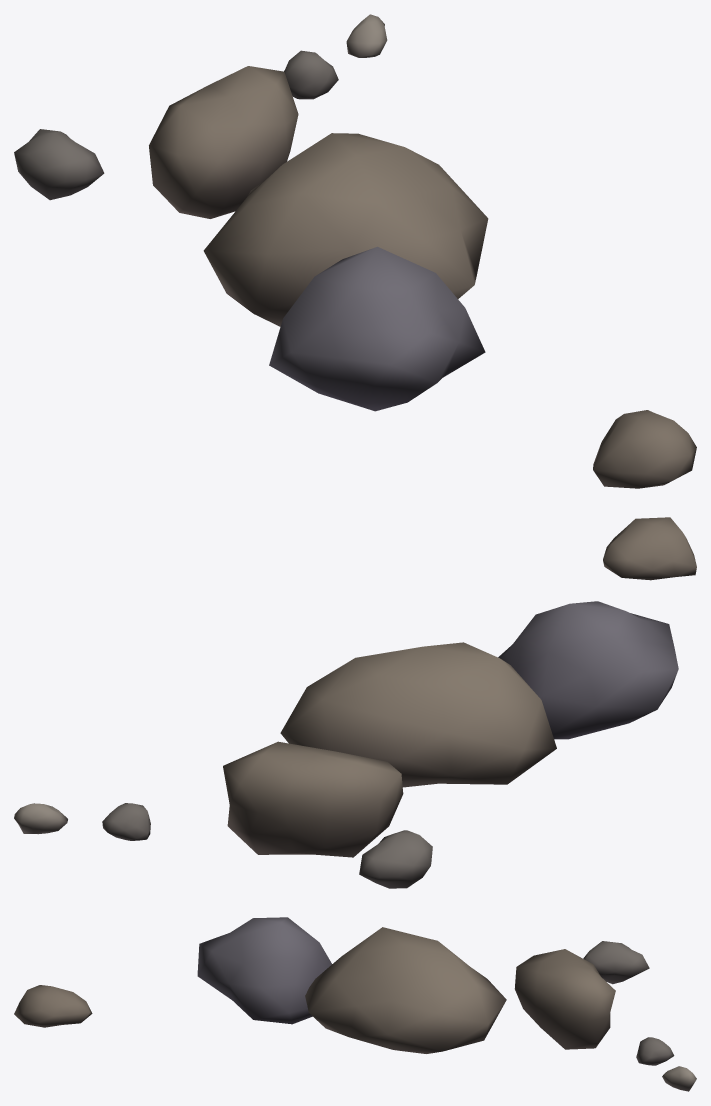
File: yd_stones__216.glb
3 views of the same model, one above another, from view 1: azimuth 30°, elevation 25°; view 2: azimuth 150°, elevation 25°; view 3: azimuth 270°, elevation 25° (orthographic). The views are drawn at different scales.
Visible parts, largest first — view 1: prop_yd_stones; view 2: prop_yd_stones; view 3: prop_yd_stones.
Part boxes in pixels (x1,y1,x2,y2): prop_yd_stones: [14, 14, 696, 488]; prop_yd_stones: [14, 517, 696, 888]; prop_yd_stones: [14, 917, 696, 1091].
Size of the model in its own units: 0.4515 by 0.1522 by 0.9669.
